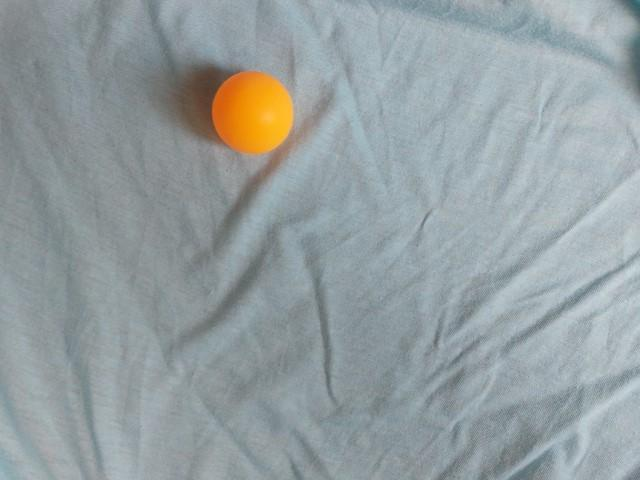oball: (339, 321, 431, 412)
